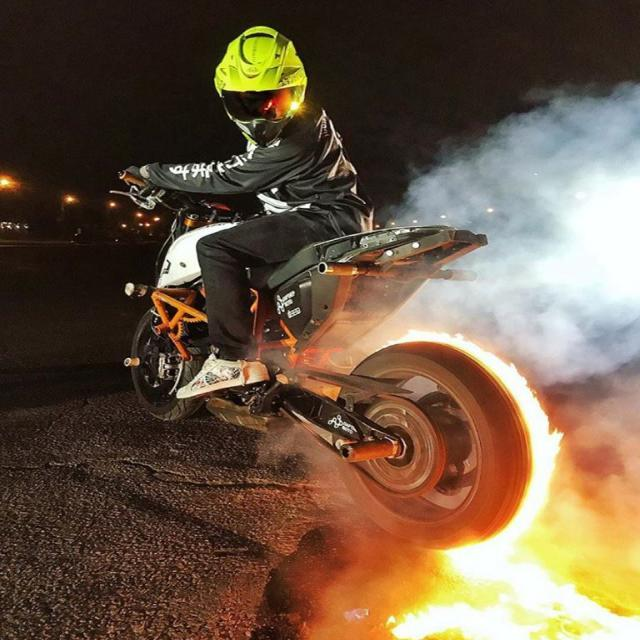Fire: (378, 328, 640, 640)
Smoke: (377, 75, 640, 532)
